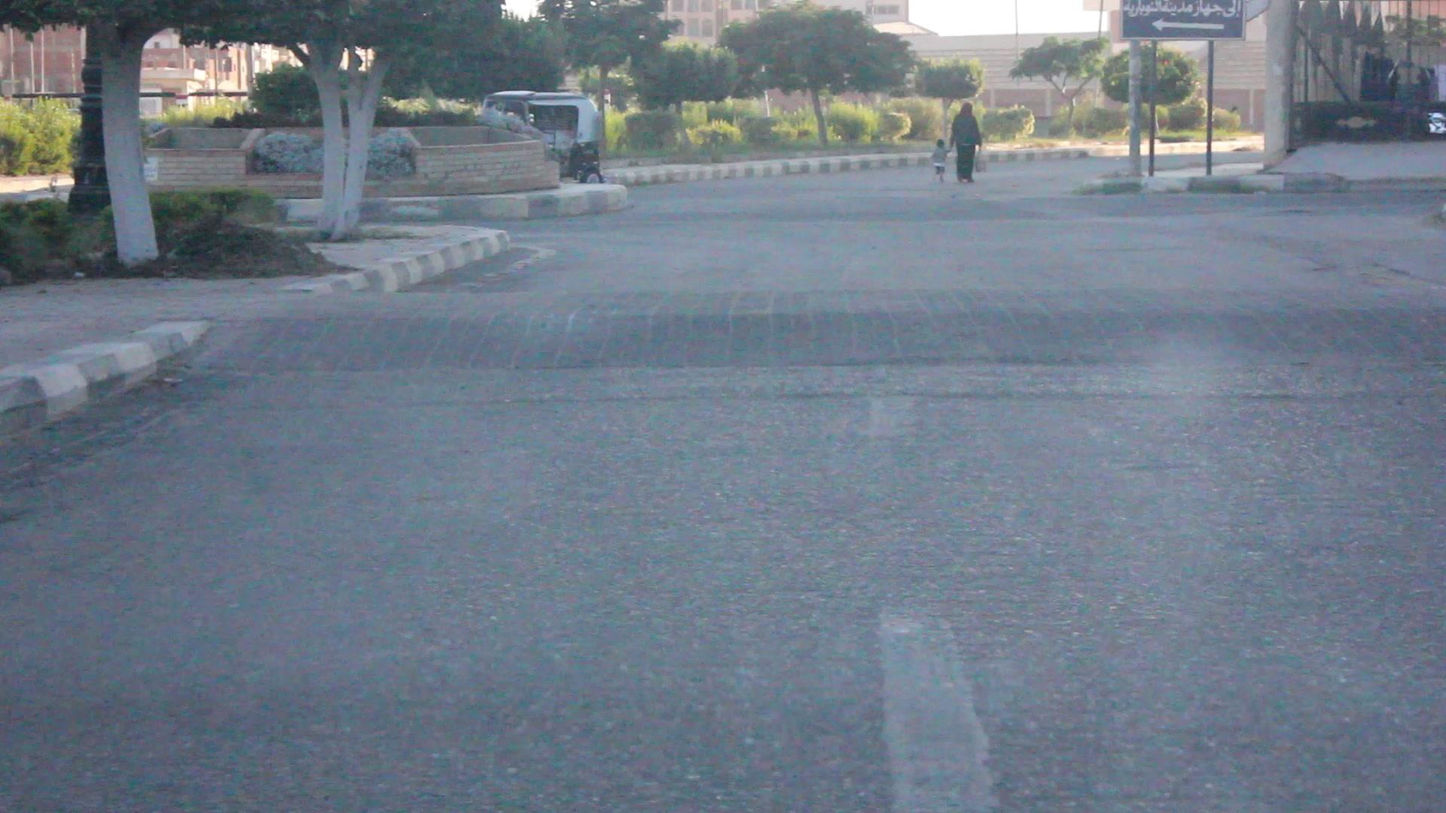Bump: (172, 283, 1445, 369)
